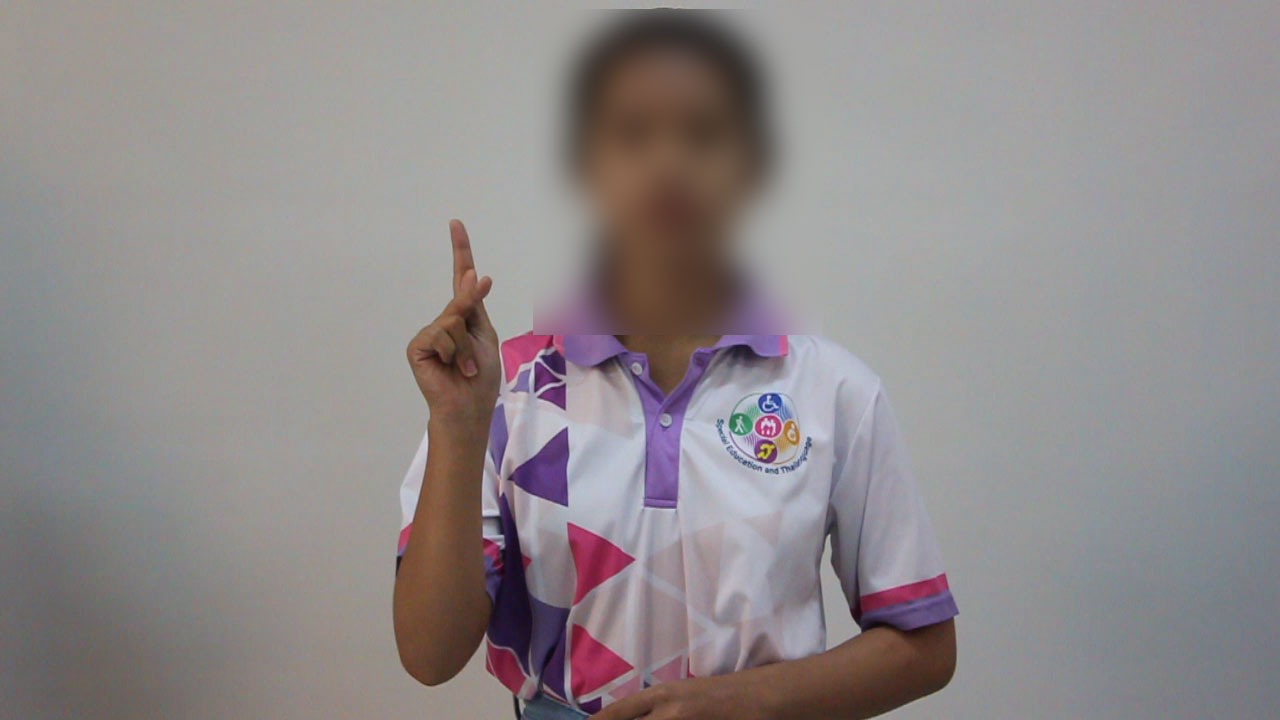ko: (386, 212, 523, 431)
